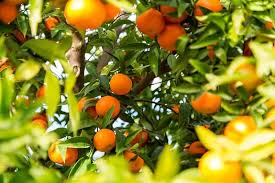orange: (59, 1, 108, 30), (44, 139, 80, 165), (191, 87, 223, 115), (107, 71, 134, 95), (94, 96, 122, 119), (94, 128, 118, 151)
